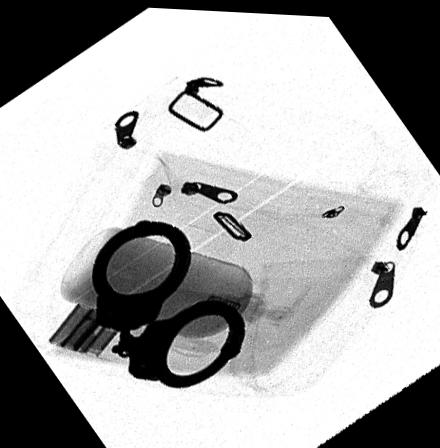HandCuffs: (91, 217, 246, 385)
